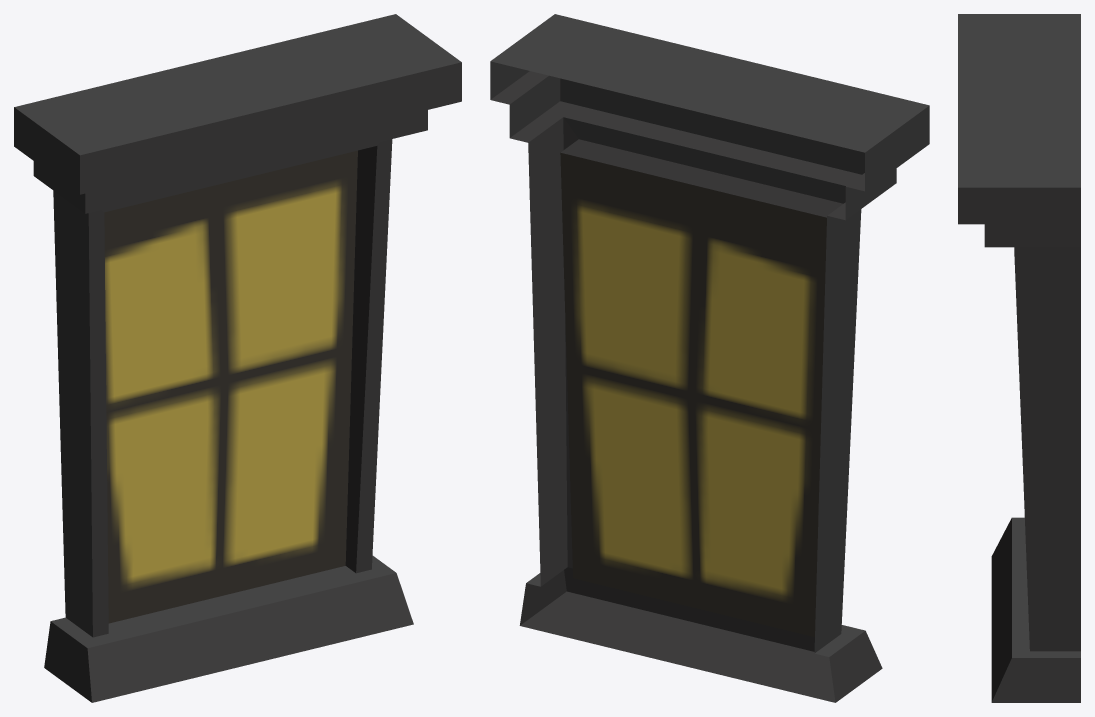
Rendered from Window_D09.fbx.
3 views of the same model, side by side, from view 1: azimuth 30°, elevation 25°; view 2: azimuth 150°, elevation 25°; view 3: azimuth 270°, elevation 25° (orthographic). The views are drawn at different scales.
Parts seen in each view (by area): view 1: Window_D09; view 2: Window_D09; view 3: Window_D09.
Part boxes in pixels (x1,y1,x2,y2): Window_D09: (14,14,461,702); Window_D09: (490,14,929,702); Window_D09: (958,14,1080,702).
Bounding box in the file's own units: 191 × 271 × 56.94.
